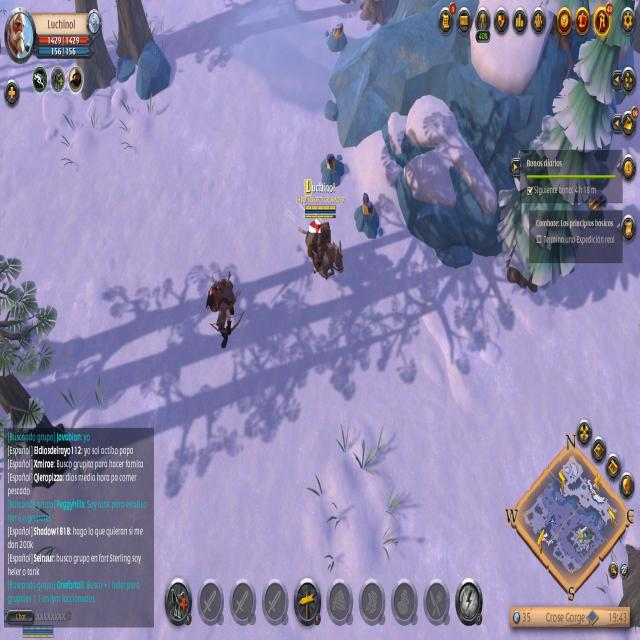piedra_cobre: (354, 192, 379, 240), (320, 154, 342, 190), (326, 22, 347, 50)
